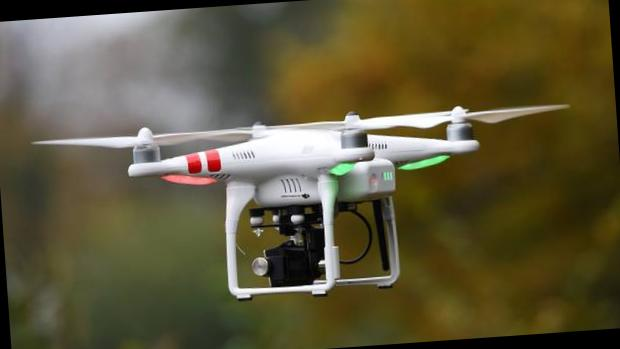drone: (27, 82, 570, 236)
